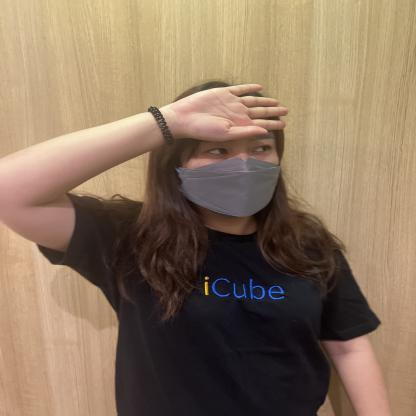Sick: (46, 68, 327, 146)
